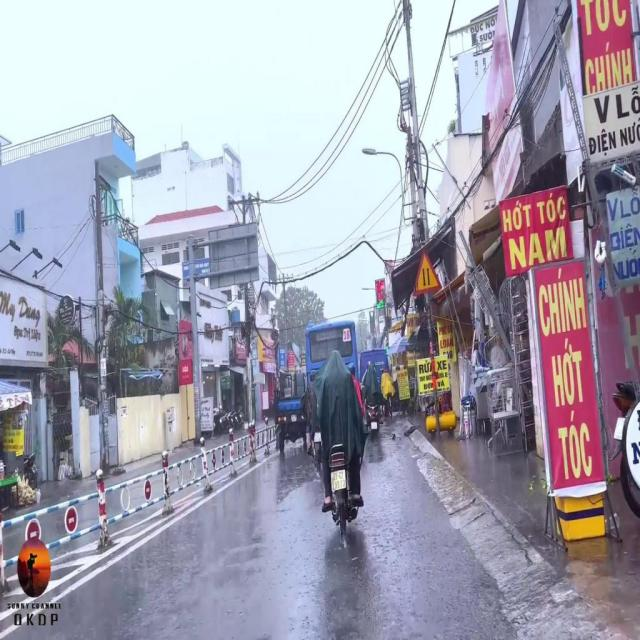khac: (412, 246, 441, 297)
